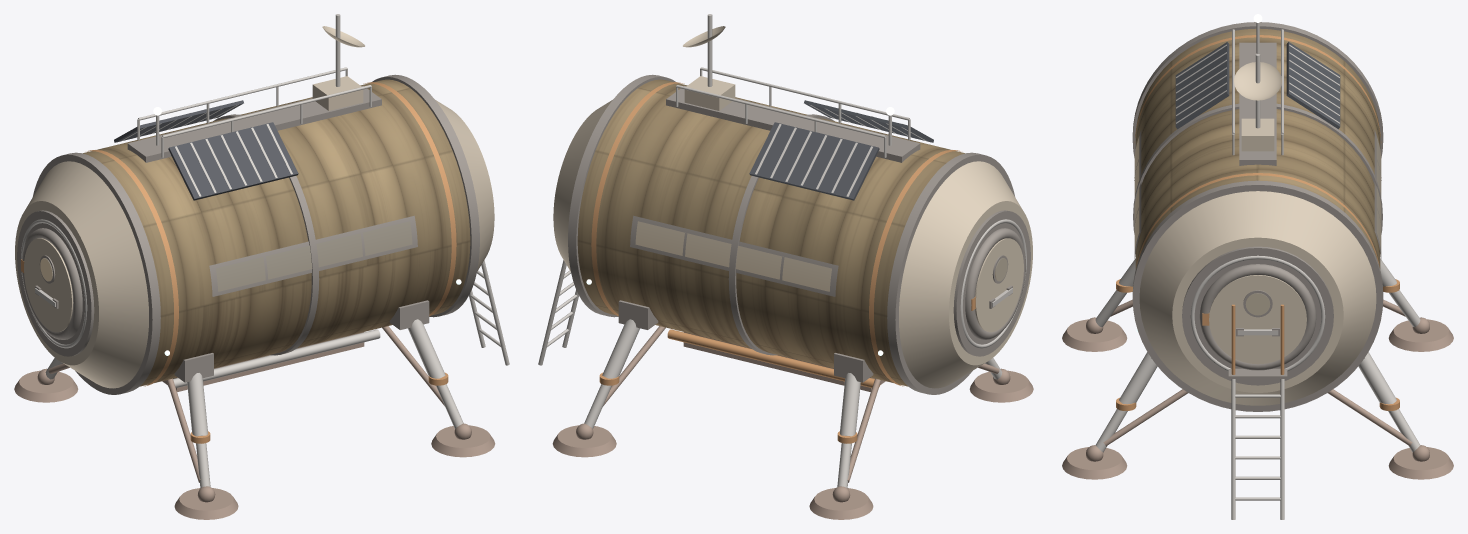
The model's file is W01_dust1_clean.glb.
3 views of the same model, side by side, from view 1: azimuth 30°, elevation 25°; view 2: azimuth 150°, elevation 25°; view 3: azimuth 270°, elevation 25° (orthographic).
Visible parts, largest first — view 1: hull, endcone (×2), radiator_panel (×2), joint_ring (×2), window_strip, footpad (×3), roof_spine, hatch_door, end_ring, accent_stripe (×2), window_frame, leg_upper (×2) (+10 smaller); view 2: hull, endcone (×2), radiator_panel (×2), joint_ring (×2), window_strip, footpad (×3), roof_spine, hatch_door, end_ring, accent_stripe (×2), window_frame, leg_upper (×2) (+10 smaller); view 3: endcone, hull, joint_ring (×2), footpad (×4), hatch_door, radiator_panel (×2), end_ring, access_ladder, hatch_frame, roof_spine, leg_piston (×4), leg_upper (×2) (+9 smaller).
Boxes of the visible parts, box(x1,y1,x2,y2) form: hull: box(83, 79, 470, 386); endcone (×2): box(15, 100, 494, 388); radiator_panel (×2): box(114, 100, 298, 200); joint_ring (×2): box(33, 74, 479, 394); window_strip: box(216, 221, 412, 291); footpad (×3): box(14, 370, 495, 519); roof_spine: box(127, 86, 381, 162); hatch_door: box(24, 238, 73, 332); end_ring: box(17, 210, 94, 356); accent_stripe (×2): box(87, 82, 456, 386); window_frame: box(209, 215, 417, 296); leg_upper (×2): box(187, 319, 445, 436); hull: box(577, 79, 964, 386); endcone (×2): box(553, 100, 1032, 388); radiator_panel (×2): box(749, 100, 933, 200); joint_ring (×2): box(568, 74, 1014, 394); window_strip: box(635, 221, 831, 291); footpad (×3): box(552, 370, 1033, 519); roof_spine: box(666, 86, 920, 162); hatch_door: box(975, 238, 1023, 332); end_ring: box(953, 210, 1030, 356); accent_stripe (×2): box(591, 82, 960, 386); window_frame: box(630, 215, 838, 296); leg_upper (×2): box(602, 319, 860, 436); endcone: box(1139, 191, 1376, 405); hull: box(1135, 28, 1380, 268); joint_ring (×2): box(1132, 22, 1383, 411); footpad (×4): box(1062, 319, 1453, 479); hatch_door: box(1209, 275, 1306, 364); radiator_panel (×2): box(1175, 42, 1340, 129); end_ring: box(1182, 246, 1333, 385); access_ladder: box(1231, 304, 1284, 519); hatch_frame: box(1199, 264, 1316, 370); roof_spine: box(1239, 42, 1276, 165); leg_piston (×4): box(1095, 290, 1420, 452); leg_upper (×2): box(1119, 352, 1396, 404).
Size of the model in its own units: 6.52 by 5.25 by 4.8.
11 materials, 1 textured.
